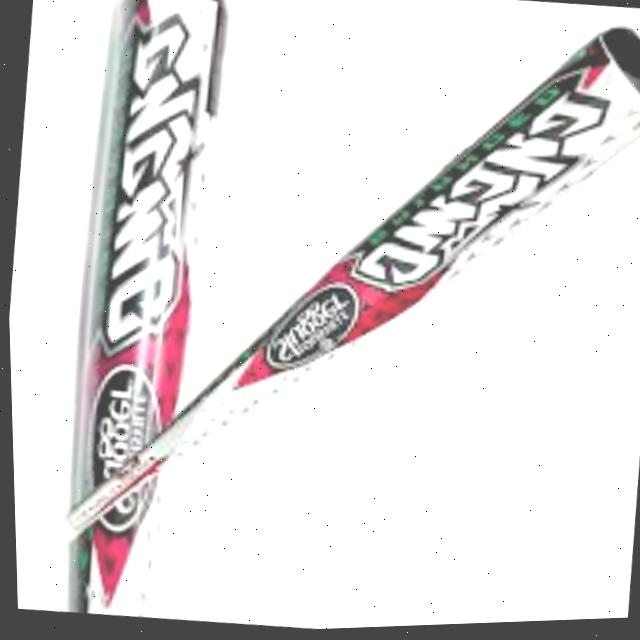baseball bat: (13, 30, 640, 588), (73, 0, 232, 618)
